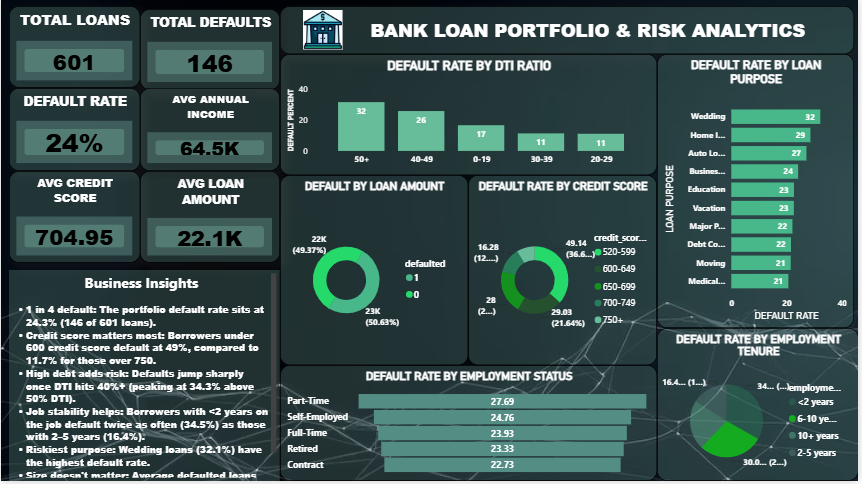

What the dashboard file says about the page in this screenshot:
{"tool":"powerbi","page":{"name":"Page 1","canvas":[1280,720],"ordinal":0},"visuals":[{"type":"textbox","box":[416.4,10.4,856.7,71.6],"z":0},{"type":"image","box":[441.8,16.4,76.6,59.3],"z":1000},{"type":"cardVisual","title":"TOTAL LOANS","fields":{"Data":["Count(loan_applications.loan_id)"]},"box":[11.9,10.4,195.5,122.4],"z":2000},{"type":"cardVisual","title":"TOTAL DEFAULTS","fields":{"Data":["Sum(loan_applications.defaulted)"]},"box":[207.5,14.9,209,120.9],"z":3000},{"type":"cardVisual","title":"DEFAULT RATE","fields":{"Data":["loan_applications.DEFAULT RATE"]},"box":[11.9,132.8,195.5,123.9],"z":4000},{"type":"cardVisual","title":"AVG CREDIT SCORE","fields":{"Data":["Avg(borrower_profiles.credit_score)"]},"box":[11.9,256.7,195.5,137.3],"z":5000},{"type":"cardVisual","title":"AVG LOAN AMOUNT","fields":{"Data":["Avg(loan_applications.loan_amount)"]},"box":[207.5,256.7,209,137.3],"z":6000},{"type":"cardVisual","title":"AVG ANNUAL INCOME","fields":{"Data":["Avg(borrower_profiles.annual_income)"]},"box":[207.5,132.8,209,123.9],"z":7000},{"type":"barChart","title":"DEFAULT RATE BY LOAN PURPOSE","fields":{"Y":["Sum(default rate by loan purposes.default_percent)"],"Category":["default rate by loan purposes.loan_purpose"]},"box":[979.1,82.1,294,409],"z":8000},{"type":"columnChart","title":"DEFAULT RATE BY DTI RATIO","fields":{"Y":["Sum(default rate by dti.default_percent)"],"Category":["default rate by dti.dti_ratio_bucket"]},"box":[416.4,82.1,562.7,180.6],"z":9000},{"type":"funnel","title":"DEFAULT RATE BY EMPLOYMENT STATUS","fields":{"Y":["Sum(default rate by employment status.default_percent)"],"Category":["default rate by employment status.employment_status"]},"box":[416.4,546.3,562.7,173.1],"z":10000},{"type":"donutChart","title":"DEFAULT RATE BY CREDIT SCORE","fields":{"Y":["Sum(default rate by credit score bucket.default_percent)"],"Category":["default rate by credit score bucket.credit_score_bucket"]},"box":[697,262.7,282.1,283.6],"z":11000},{"type":"pieChart","title":"DEFAULT RATE BY EMPLOYMENT TENURE","fields":{"Y":["Sum(default rate by employment tenure.default_percent)"],"Category":["default rate by employment tenure.employment_tenure"]},"box":[979.1,491,301.5,228.4],"z":12000},{"type":"donutChart","title":"DEFAULT BY LOAN AMOUNT","fields":{"Y":["Sum(default by loan amount.avg_loan_amount)"],"Category":["default by loan amount.defaulted"]},"box":[416.4,262.7,280.6,283.6],"z":13000},{"type":"textbox","box":[11.9,404.5,404.5,314.9],"z":13001}]}

Visuals, with their boxes in screenshot pixels (x1, y1, x2, y2), scaled from the page's 1280x720 canvas onto the 862x484 screenshot:
textbox: rect(280, 7, 857, 55)
image: rect(298, 11, 349, 51)
"TOTAL LOANS" cardVisual: rect(8, 7, 140, 89)
"TOTAL DEFAULTS" cardVisual: rect(140, 10, 280, 91)
"DEFAULT RATE" cardVisual: rect(8, 89, 140, 173)
"AVG CREDIT SCORE" cardVisual: rect(8, 173, 140, 265)
"AVG LOAN AMOUNT" cardVisual: rect(140, 173, 280, 265)
"AVG ANNUAL INCOME" cardVisual: rect(140, 89, 280, 173)
"DEFAULT RATE BY LOAN PURPOSE" barChart: rect(659, 55, 857, 330)
"DEFAULT RATE BY DTI RATIO" columnChart: rect(280, 55, 659, 177)
"DEFAULT RATE BY EMPLOYMENT STATUS" funnel: rect(280, 367, 659, 483)
"DEFAULT RATE BY CREDIT SCORE" donutChart: rect(469, 177, 659, 367)
"DEFAULT RATE BY EMPLOYMENT TENURE" pieChart: rect(659, 330, 861, 483)
"DEFAULT BY LOAN AMOUNT" donutChart: rect(280, 177, 469, 367)
textbox: rect(8, 272, 280, 483)
